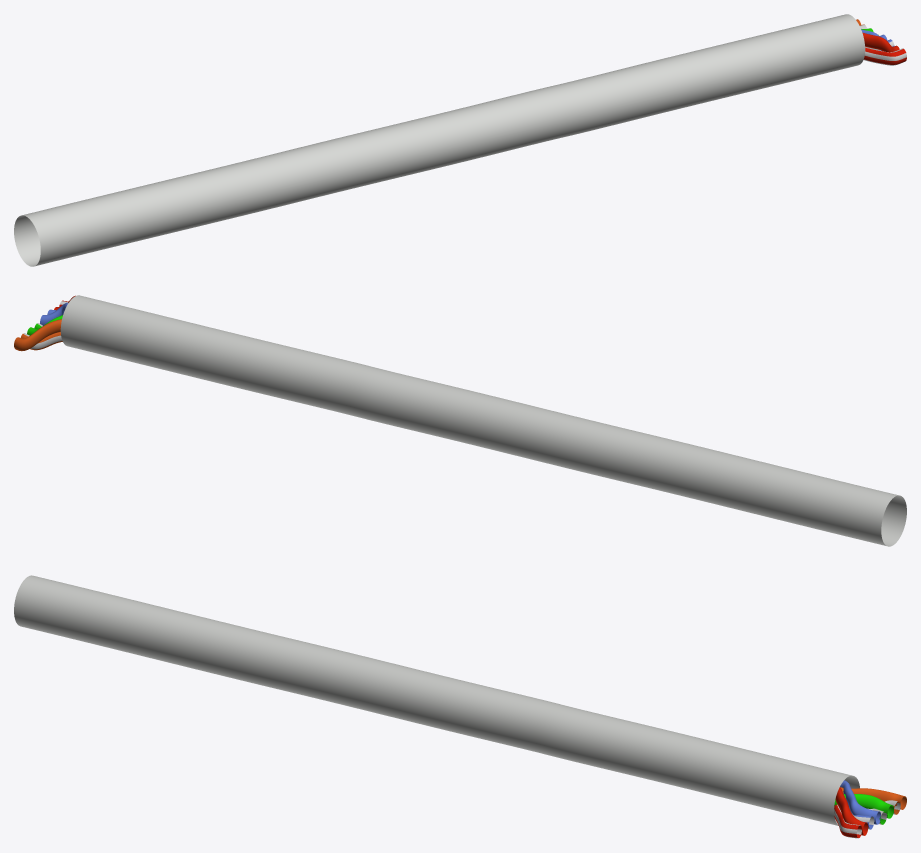
Rendered from kabel 2.fbx.
3 views of the same model, one above another, from view 1: azimuth 30°, elevation 25°; view 2: azimuth 150°, elevation 25°; view 3: azimuth 330°, elevation 25° (orthographic).
Visible parts, largest first — view 1: BezierCurve.008, BezierCurve.016; view 2: BezierCurve.008, BezierCurve.009; view 3: BezierCurve.008, BezierCurve.010.
Part boxes in pixels (left/top/right/bottom): BezierCurve.008: left=14, top=14, right=865, bottom=266; BezierCurve.016: left=863, top=47, right=906, bottom=65; BezierCurve.008: left=60, top=295, right=906, bottom=546; BezierCurve.009: left=14, top=319, right=61, bottom=351; BezierCurve.008: left=14, top=575, right=859, bottom=825; BezierCurve.010: left=840, top=780, right=880, bottom=824.
Size of the model in its own units: 1375 by 73.12 by 145.
